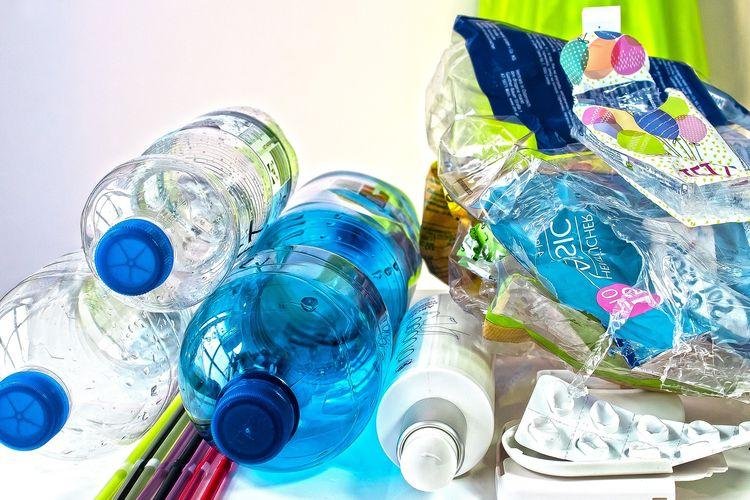HDPE: (207, 371, 303, 469), (94, 219, 175, 296), (0, 371, 71, 451)
LDPE: (424, 14, 750, 275)
PETE: (178, 168, 422, 467), (79, 103, 300, 312), (0, 252, 186, 460)
